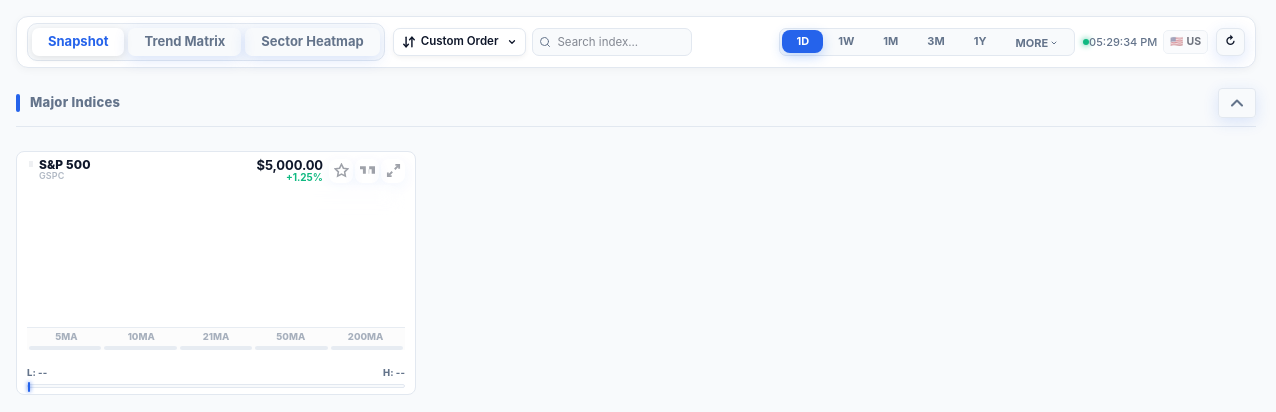
Test: MarketPulseView › supports searching/filtering indices
Type "NASDAQ" into the field with placeholder "Search index..." at x=612, y=42, box [532,28,692,56]
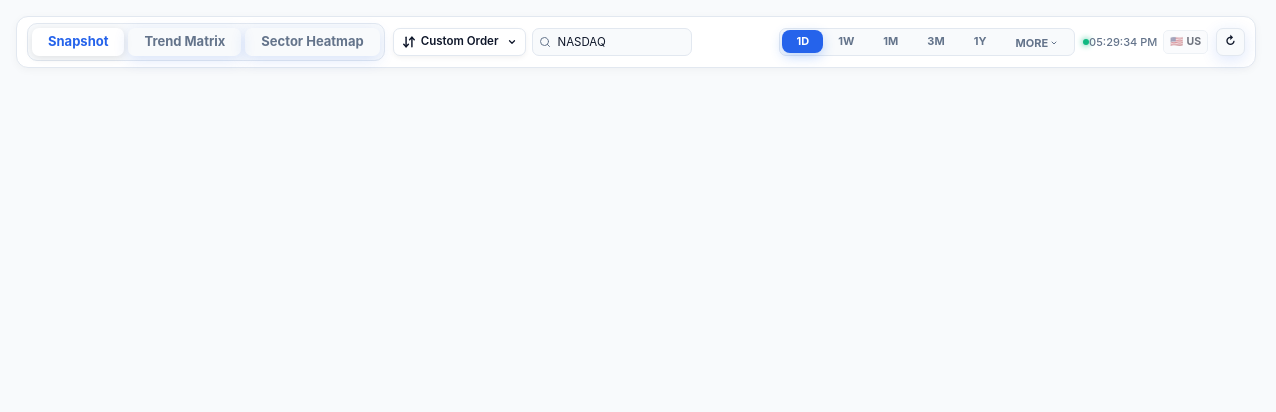
Expected: the text "S&P 500" is gone
